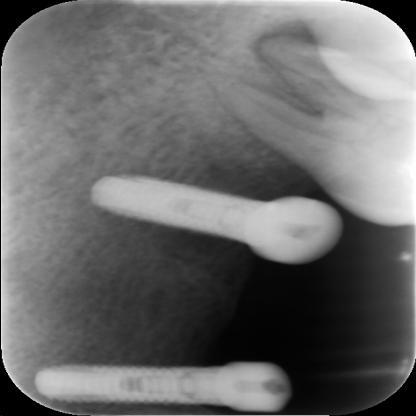Bego: (77, 172, 259, 233), (41, 352, 214, 405)
